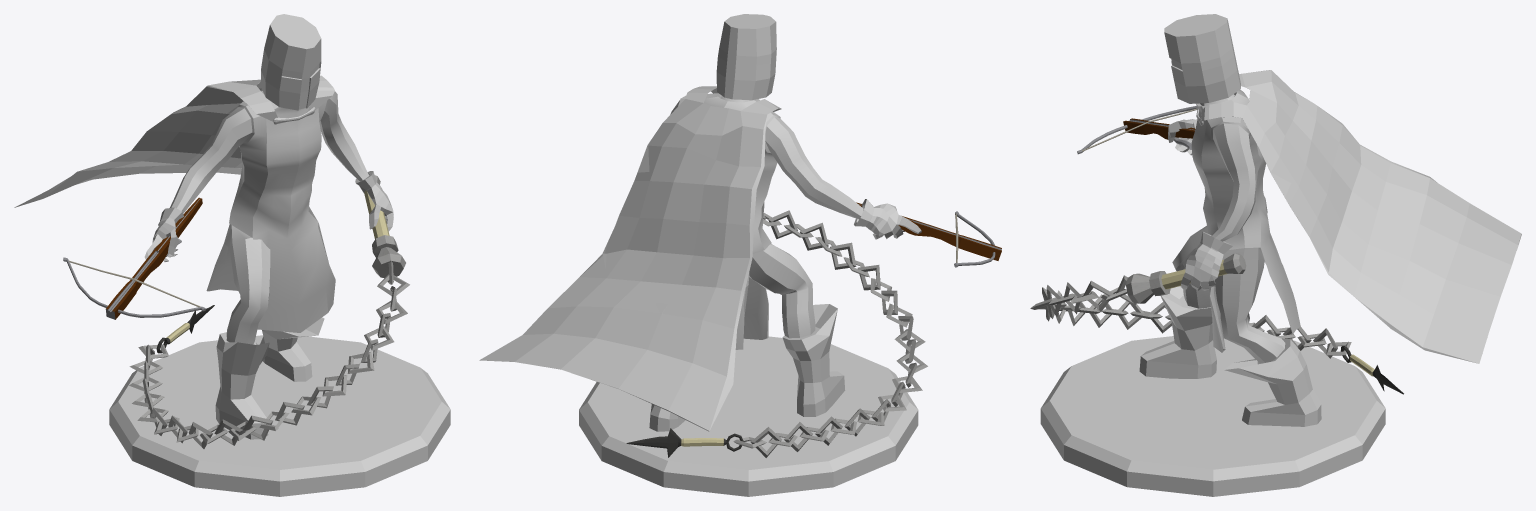
The model's file is Templar_Crossbow_Hook.fbx.
3 views of the same model, side by side, from view 1: azimuth 30°, elevation 25°; view 2: azimuth 150°, elevation 25°; view 3: azimuth 270°, elevation 25° (orthographic).
Parts seen in each view (by area): view 1: Templar_Crossbow_Hook, Base14, Cape, Hook, Crossbow; view 2: Cape, Base14, Templar_Crossbow_Hook, Hook, Crossbow; view 3: Cape, Base14, Templar_Crossbow_Hook, Hook, Crossbow.
Part boxes in pixels (bbox=[...]): Templar_Crossbow_Hook: bbox=[144, 14, 393, 439]; Base14: bbox=[109, 335, 450, 496]; Cape: bbox=[14, 75, 334, 207]; Hook: bbox=[129, 175, 409, 448]; Crossbow: bbox=[63, 197, 205, 319]; Cape: bbox=[479, 86, 781, 431]; Base14: bbox=[579, 336, 918, 496]; Templar_Crossbow_Hook: bbox=[649, 14, 921, 431]; Hook: bbox=[626, 210, 927, 457]; Crossbow: bbox=[856, 202, 1001, 267]; Cape: bbox=[1201, 70, 1521, 363]; Base14: bbox=[1040, 336, 1385, 496]; Templar_Crossbow_Hook: bbox=[1139, 14, 1321, 426]; Hook: bbox=[1030, 253, 1403, 394]; Crossbow: bbox=[1077, 106, 1196, 154].
Bounding box in the file's own units: 248 × 261 × 285.
